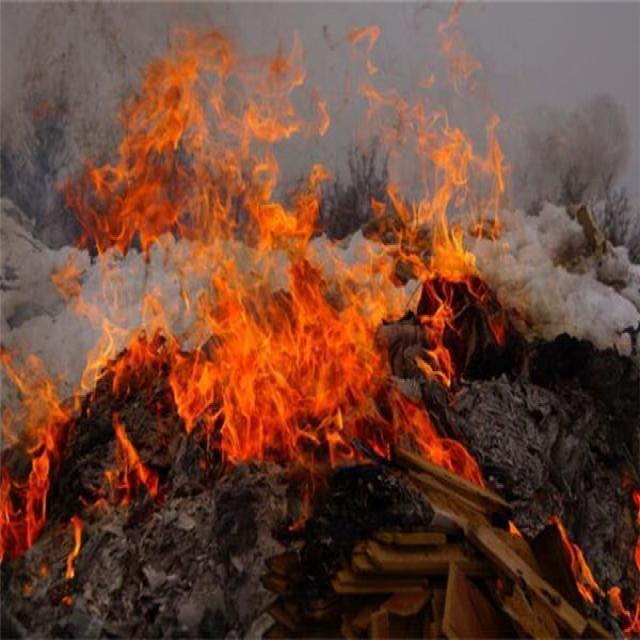fire: (71, 30, 487, 489), (0, 346, 53, 547)
